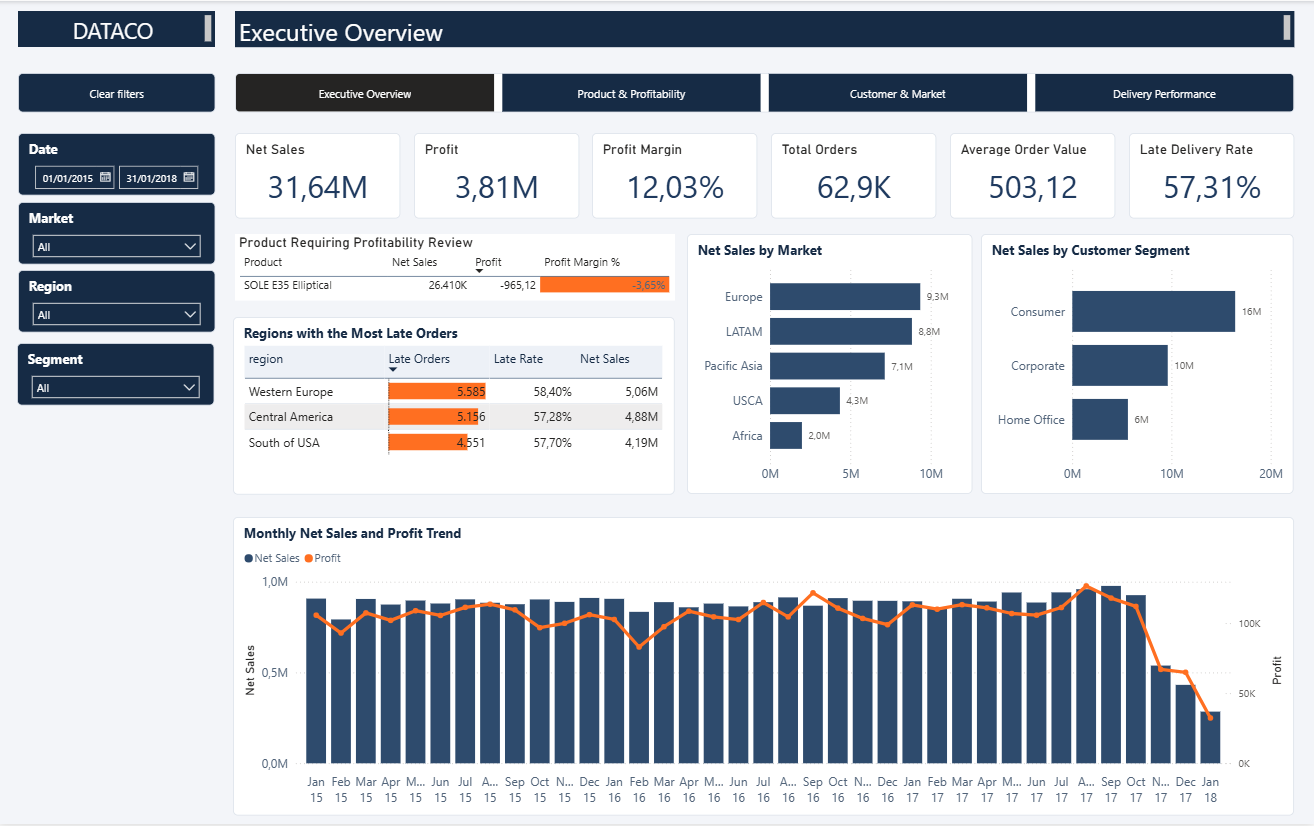

What the dashboard file says about the page in this screenshot:
{"tool":"powerbi","page":{"name":"Executive Overview","canvas":[1600,1000],"ordinal":0},"visuals":[{"type":"shape","box":[24.3,12.2,239.5,43.8],"z":0},{"type":"textbox","box":[24.3,12.2,239.5,43.8],"z":1000},{"type":"textbox","box":[288,12,1288,44],"z":2000},{"type":"actionButton","box":[24,88,240,48],"z":3000},{"type":"pageNavigator","box":[288,88,1288,48],"z":4000},{"type":"slicer","title":"Date","fields":{"Values":["DimDate.Date"]},"box":[24,160,240,76],"z":5000},{"type":"card","title":"Net Sales","fields":{"Values":["FactOrder.Net Sales (Order)"]},"box":[288,160,201.3,104],"z":6000},{"type":"card","title":"Profit","fields":{"Values":["FactOrder.Total Profit (Order)"]},"box":[505.3,160,201.3,104],"z":7000},{"type":"card","title":"Profit Margin","fields":{"Values":["FactOrder.Profit Margin % (Order)"]},"box":[722.7,160,201.3,104],"z":8000},{"type":"card","title":"Total Orders","fields":{"Values":["FactOrder.Total Orders"]},"box":[940,160,201.3,104],"z":9000},{"type":"card","title":"Average Order Value","fields":{"Values":["FactOrder.Average Order Value"]},"box":[1157.3,160,201.3,104],"z":10000},{"type":"card","title":"Late Delivery Rate","fields":{"Values":["FactOrder.Late Delivery Rate %"]},"box":[1374.7,160,201.3,104],"z":11000},{"type":"slicer","title":"Market","fields":{"Values":["DimGeography.market"]},"box":[24,244,240,76],"z":12000},{"type":"lineClusteredColumnComboChart","title":"Monthly Net Sales and Profit Trend","fields":{"Category":["DimDate.Year Month Label"],"Y":["FactOrder.Net Sales (Order)"],"Y2":["FactOrder.Total Profit (Order)"]},"box":[286,627.9,1289.5,362.8],"z":13000},{"type":"clusteredBarChart","title":"Net Sales by Market","fields":{"Category":["DimGeography.market"],"Y":["FactOrder.Net Sales (Order)"]},"box":[837.2,283.7,346.5,316.3],"z":14000},{"type":"clusteredBarChart","title":"Net Sales by Customer Segment","fields":{"Category":["DimCustomer.customer_segment"],"Y":["FactOrder.Net Sales (Order)"]},"box":[1195.3,283.7,380.2,316.3],"z":15000},{"type":"slicer","title":"Segment","fields":{"Values":["DimCustomer.customer_segment"]},"box":[23.3,416.3,240,76],"z":17000},{"type":"tableEx","title":"Regions with the Most Late Orders","fields":{"Values":["DimGeography.order_region","FactOrder.Late Orders","FactOrder.Late Delivery Rate %","FactOrder.Net Sales (Order)"]},"box":[286,383.7,537.2,216.3],"z":20000},{"type":"tableEx","title":"Product Requiring Profitability Review","fields":{"Values":["DimProduct.product_name","FactOrderItem.Net Sales (Item)","FactOrderItem.Total Profit (Item)","FactOrderItem.Profit Margin % (Item)"]},"box":[288.4,283.7,534.9,81.4],"z":21000},{"type":"slicer","title":"Region","fields":{"Values":["DimGeography.order_region"]},"box":[24.6,326.6,240,76],"z":23000}]}

Visuals, with their boxes in screenshot pixels (x1, y1, x2, y2), scaled from the page's 1600x1000 canvas onto the 1314x826 screenshot:
shape: 20/10/217/46
textbox: 20/10/217/46
textbox: 237/10/1294/46
actionButton: 20/73/217/112
pageNavigator: 237/73/1294/112
"Date" slicer: 20/132/217/195
"Net Sales" card: 237/132/402/218
"Profit" card: 415/132/580/218
"Profit Margin" card: 594/132/759/218
"Total Orders" card: 772/132/937/218
"Average Order Value" card: 950/132/1116/218
"Late Delivery Rate" card: 1129/132/1294/218
"Market" slicer: 20/202/217/264
"Monthly Net Sales and Profit Trend" lineClusteredColumnComboChart: 235/519/1294/818
"Net Sales by Market" clusteredBarChart: 688/234/972/496
"Net Sales by Customer Segment" clusteredBarChart: 982/234/1294/496
"Segment" slicer: 19/344/216/407
"Regions with the Most Late Orders" tableEx: 235/317/676/496
"Product Requiring Profitability Review" tableEx: 237/234/676/302
"Region" slicer: 20/270/217/333
